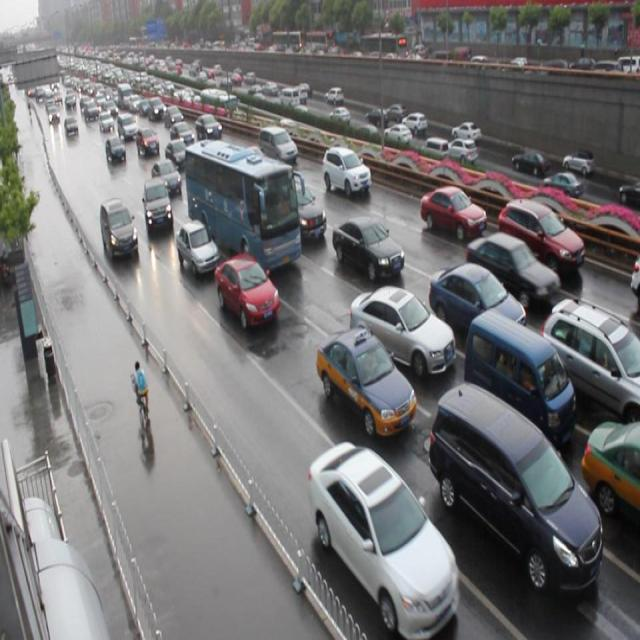car: (306, 436, 460, 640), (537, 296, 640, 427), (316, 324, 414, 436), (349, 283, 455, 378), (428, 260, 526, 344), (497, 195, 585, 277), (465, 230, 558, 306), (577, 418, 640, 528), (214, 252, 280, 330), (332, 210, 404, 277), (420, 182, 486, 242), (281, 178, 327, 240), (320, 144, 371, 197), (175, 219, 219, 276), (142, 175, 174, 238), (151, 156, 182, 194)
truck: (427, 382, 600, 595), (462, 308, 571, 439), (99, 196, 140, 261), (256, 124, 298, 165)
van: (182, 139, 299, 272)
